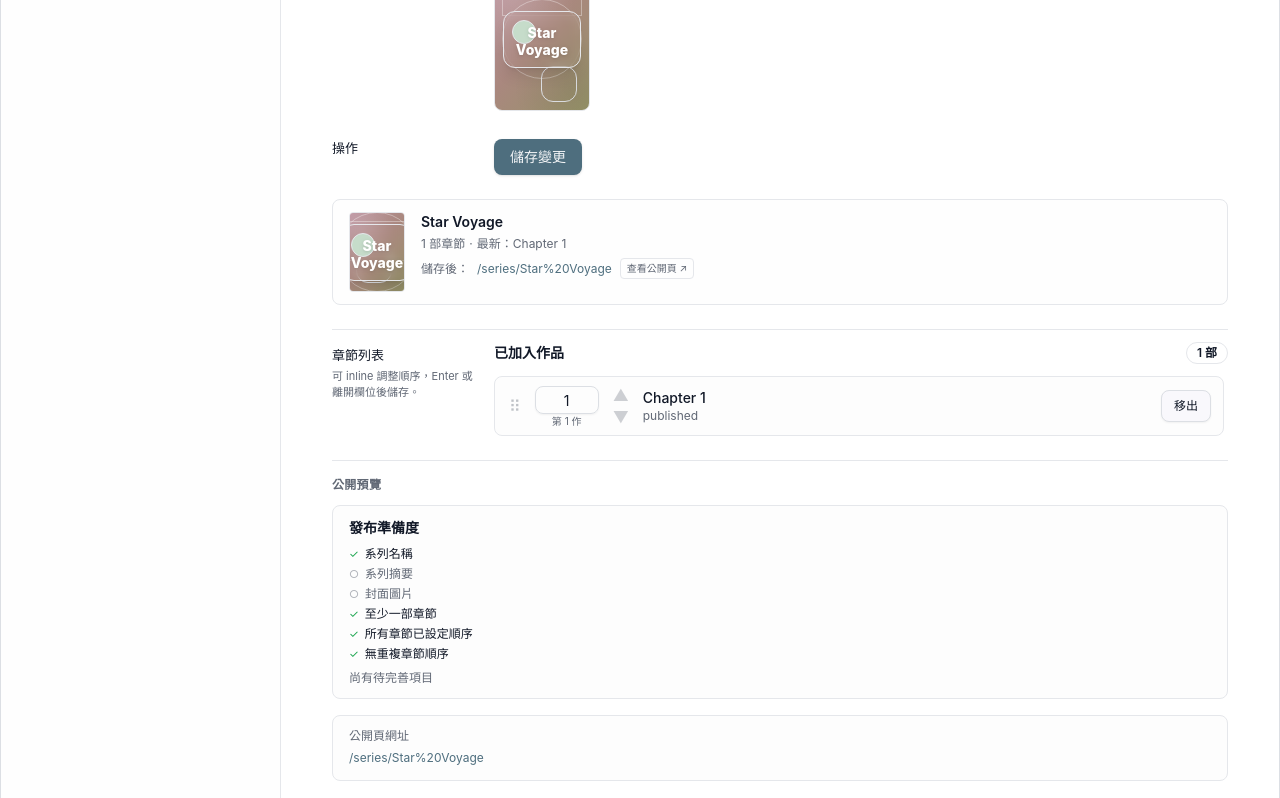
Scenario: inline order edit › shows error text for invalid input during editing
(page scrolled)
Replace the text in the field named "Chapter 1 章節順序" with "xyz" at (567, 400), box [535,386,599,414]
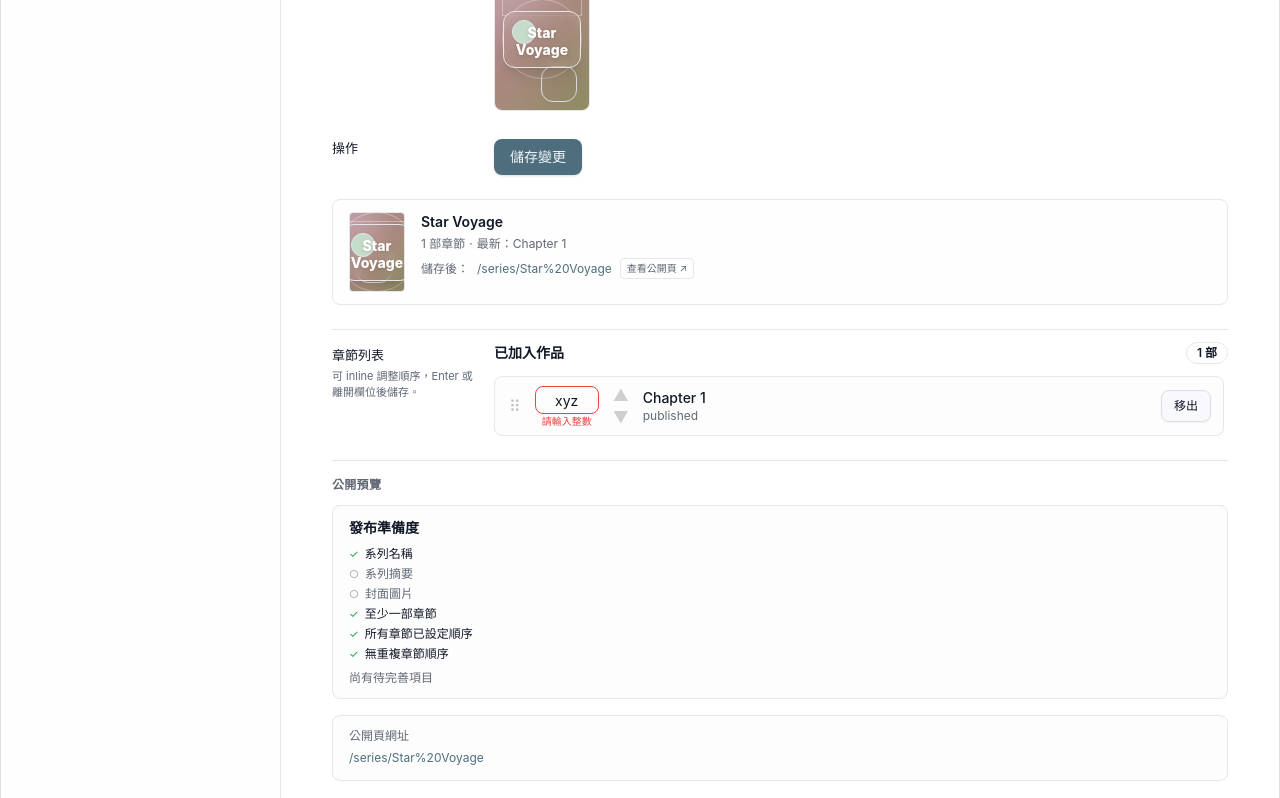
Expected: the text "請輸入整數" is shown, [542,416,592,426]
